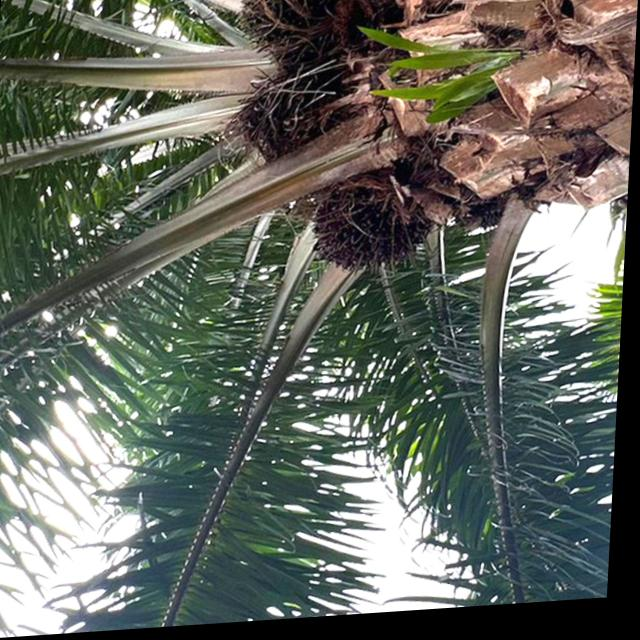almost: (307, 175, 439, 285)
